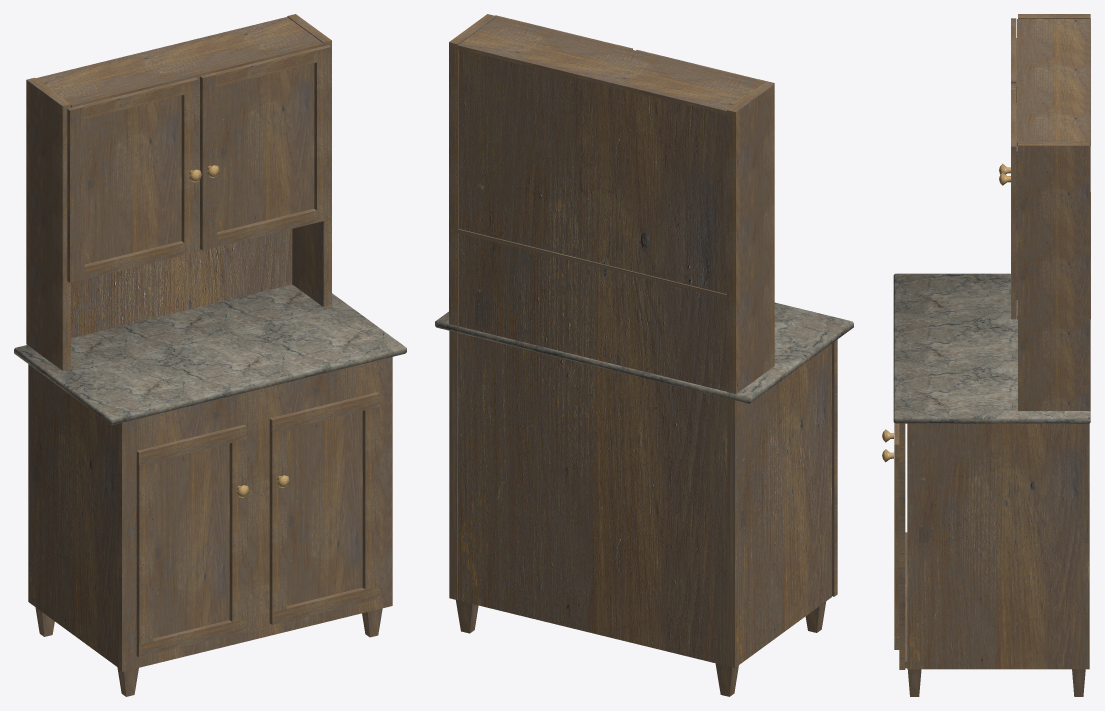
Rendered from cupboarda.glb.
3 views of the same model, side by side, from view 1: azimuth 30°, elevation 25°; view 2: azimuth 150°, elevation 25°; view 3: azimuth 270°, elevation 25° (orthographic). The views are drawn at different scales.
Parts seen in each view (by area): view 1: CupBase300; view 2: CupBase300; view 3: CupBase300.
Boxes of the visible parts, x1=… form: CupBase300: x1=14, y1=14, x2=406, y2=696; CupBase300: x1=435, y1=14, x2=853, y2=696; CupBase300: x1=882, y1=14, x2=1090, y2=696.
Size of the model in its own units: 1.39 by 2.48 by 0.8451.
4 materials, 4 textured.
